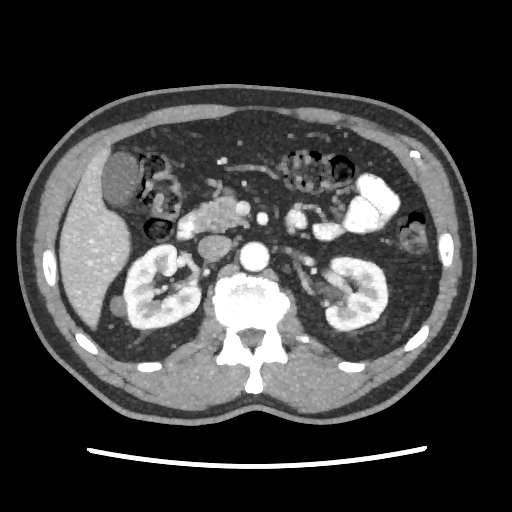Lesion: (108, 294, 131, 320)
